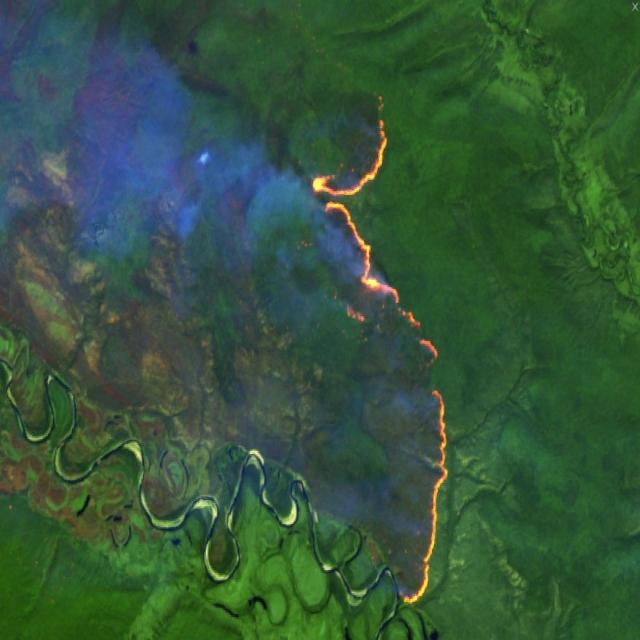fire: (309, 86, 469, 611)
